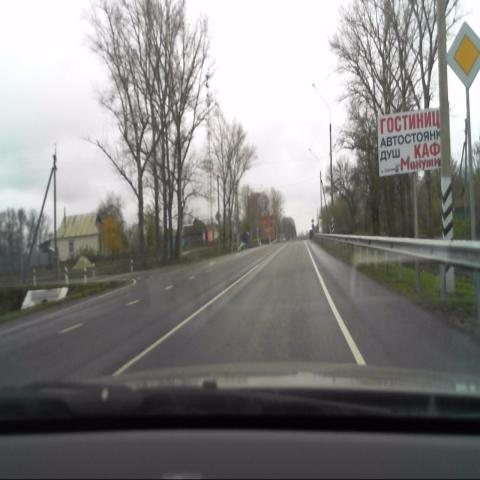2_1: (446, 22, 480, 90)
